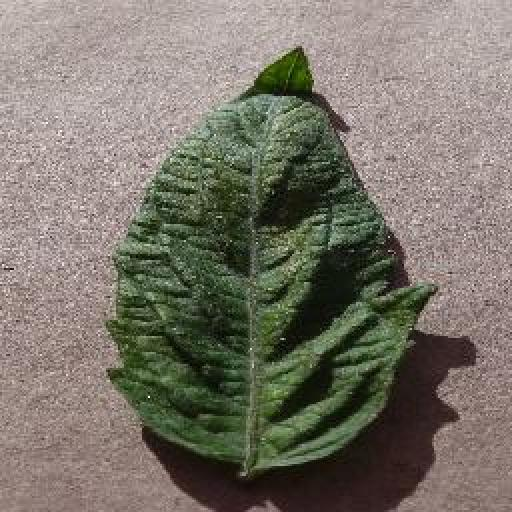Spider Mites: (101, 38, 439, 470)
